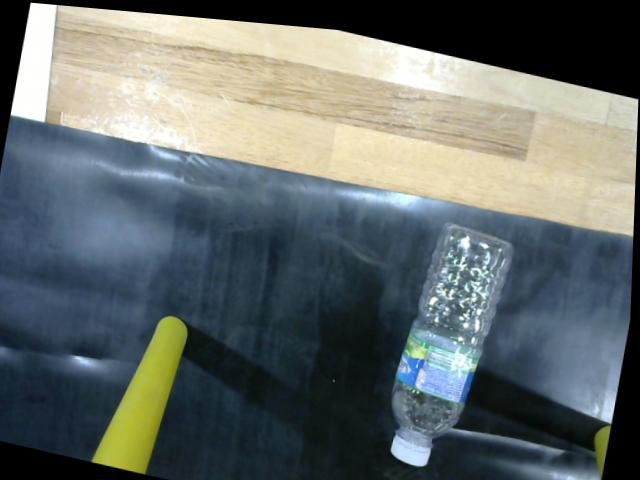bottle: (384, 202, 523, 472)
